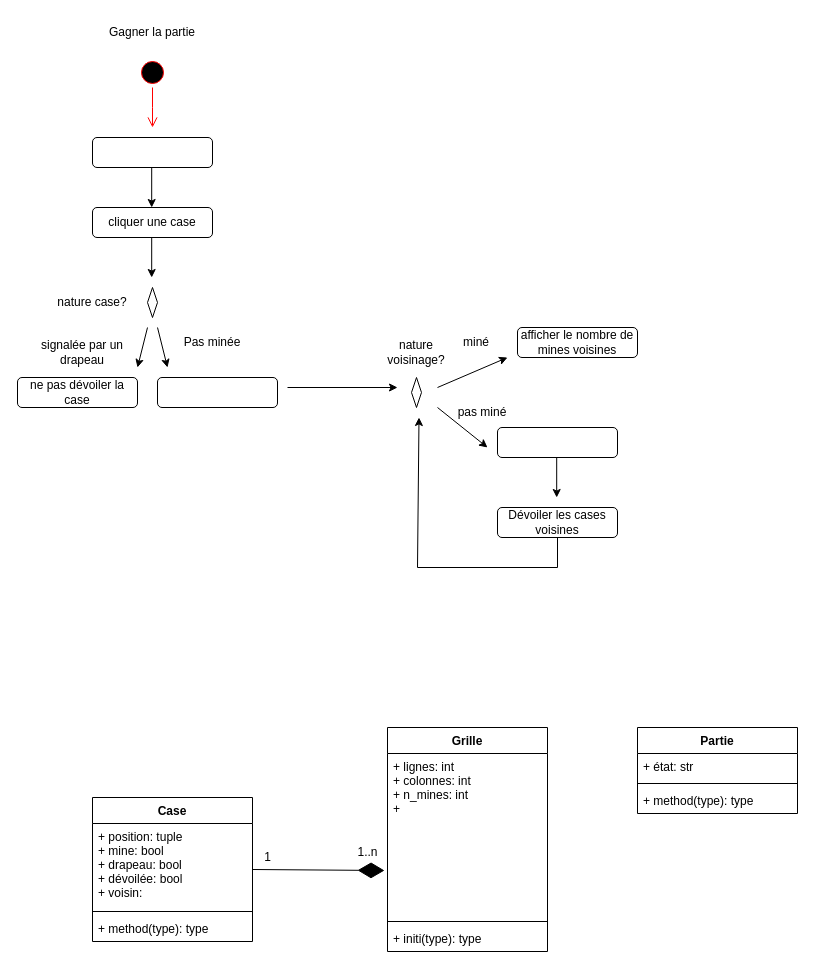
The diagram is 815 pixels wide and 971 high, and some of its shapes have lost their labels. Here are the shapes that lost their labels. From the top down, the centre of each, then its label:
the point at 152,152: configurer la partie
the point at 217,392: dévoiler la case
the point at 557,442: afficher une case vide
